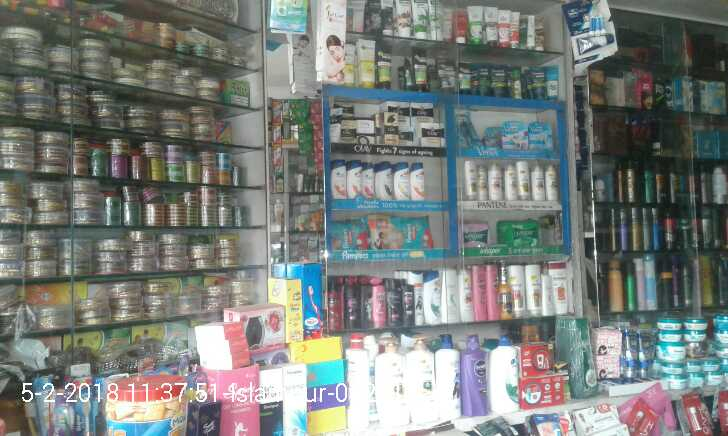venus: (456, 116, 486, 147), (503, 120, 528, 149), (528, 121, 551, 149), (486, 127, 502, 147)
